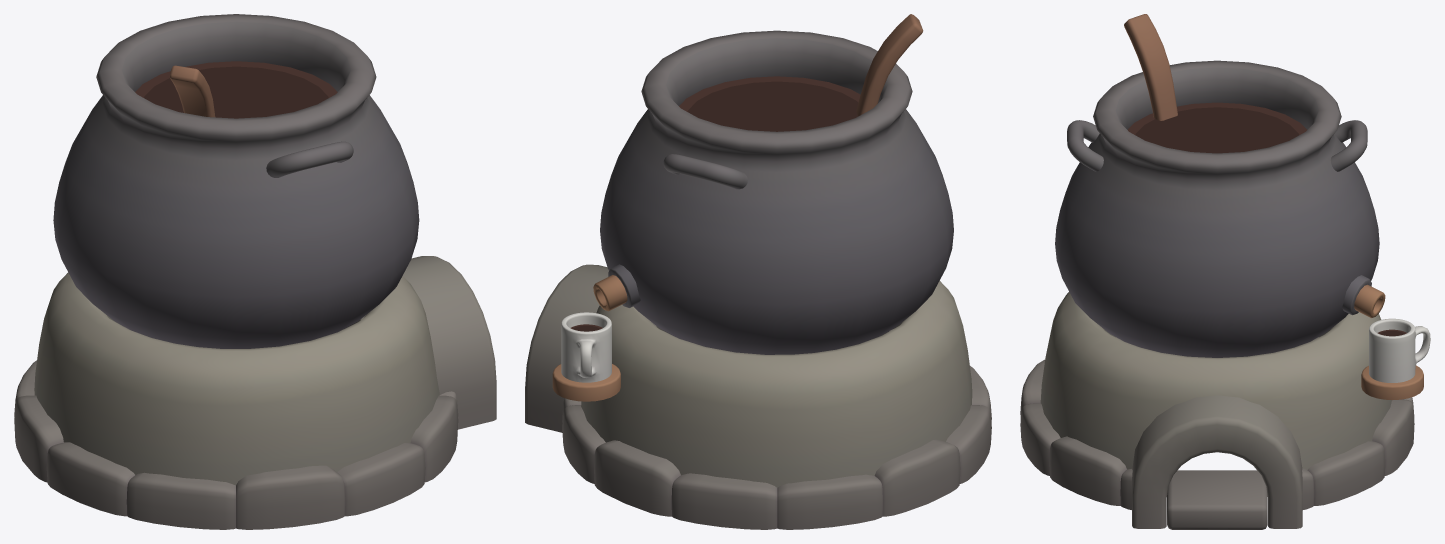
Rendered from coffeeTower.fbx.
The picture shows the model from 3 angles, left to right: view 1: azimuth 30°, elevation 25°; view 2: azimuth 150°, elevation 25°; view 3: azimuth 270°, elevation 25°; orthographic projection. The views are drawn at different scales.
Visible parts, largest first — view 1: coffeeTower; view 2: coffeeTower; view 3: coffeeTower.
Part boxes in pixels (x1,y1,x2,y2): coffeeTower: (14, 14, 496, 529); coffeeTower: (525, 14, 991, 529); coffeeTower: (1020, 14, 1430, 529).
Bounding box in the file's own units: 147 × 145 × 142.
